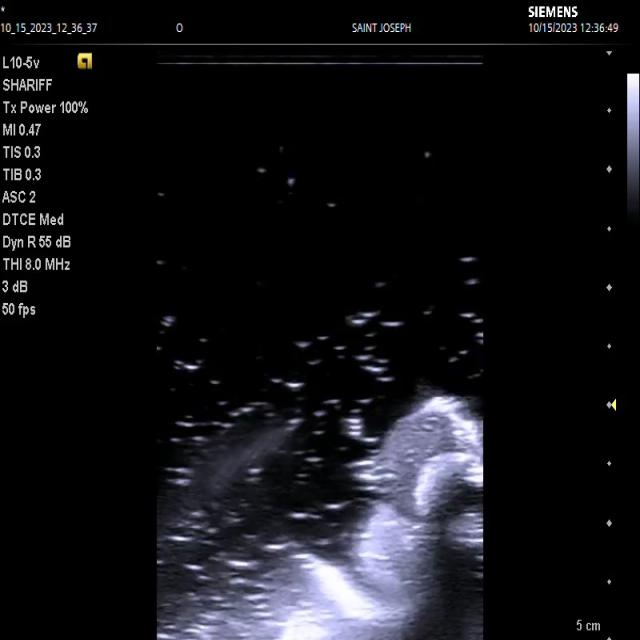tissue: (270, 396, 483, 640)
